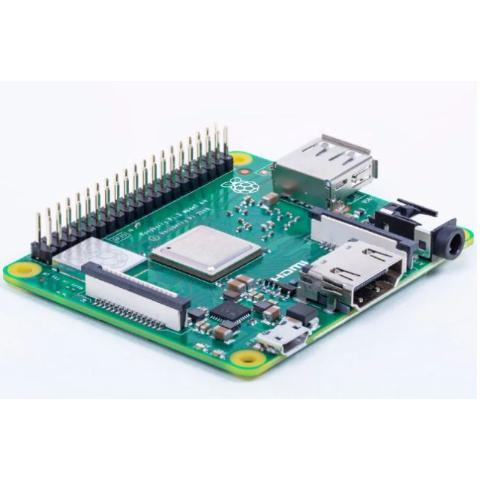Raspberry-Pi-3-Model-A-: (1, 118, 476, 384)
